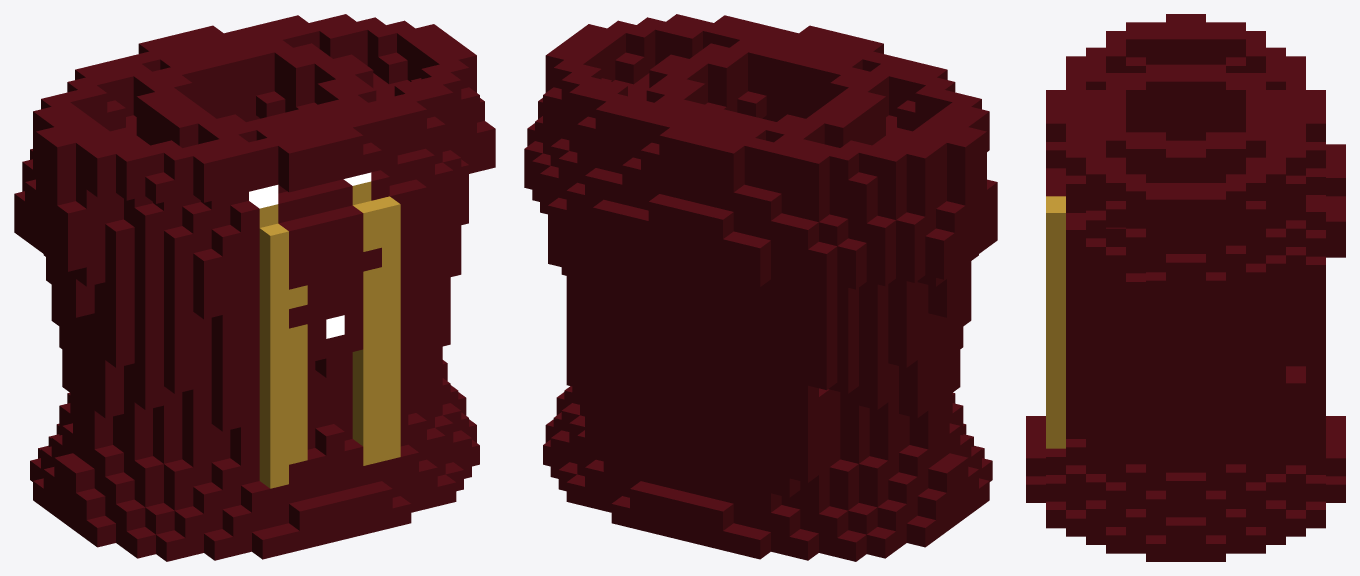
File: starsilk_vestment_lod1.glb
3 renders of one model, left to right at view 1: azimuth 30°, elevation 25°; view 2: azimuth 150°, elevation 25°; view 3: azimuth 270°, elevation 25°, orthographic. The views are drawn at different scales.
Parts seen in each view (by area): view 1: starsilk_vestment_lod1; view 2: starsilk_vestment_lod1; view 3: starsilk_vestment_lod1.
Part boxes in pixels (x1,y1,x2,y2): starsilk_vestment_lod1: (14,14,495,561); starsilk_vestment_lod1: (524,14,997,561); starsilk_vestment_lod1: (1026,14,1345,561).
Size of the model in its own units: 0.552 by 0.48 by 0.384.
